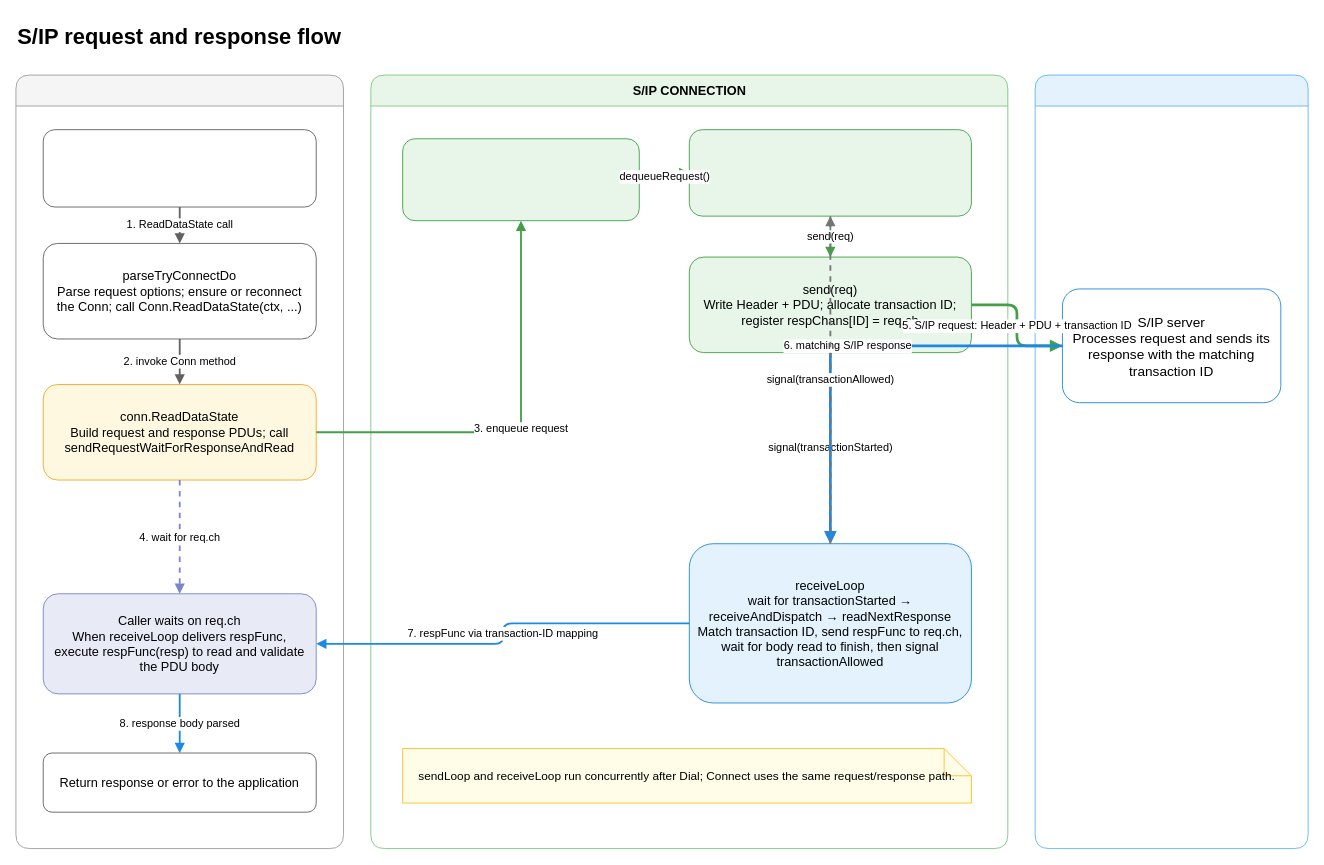
The diagram is 1324 pixels wide and 865 high, and some of its shapes have lost their labels. The shapes that lost their labels are listed below. From the top down, each one's box as (x1, y1, x2, y2) in pixels, then its label:
(42, 129, 316, 207): sip.Client.ReadDataState(...) Application invokes the synchronous client API
(402, 138, 639, 221): sendRequest → enqueueRequest(ctx, req) Request enters reqCh
(688, 129, 971, 216): sendLoop dequeueRequest → wait for transactionAllowed → send(req)
(15, 74, 344, 849): CLIENT CALLER
(1034, 74, 1308, 849): REMOTE S/IP SERVER
